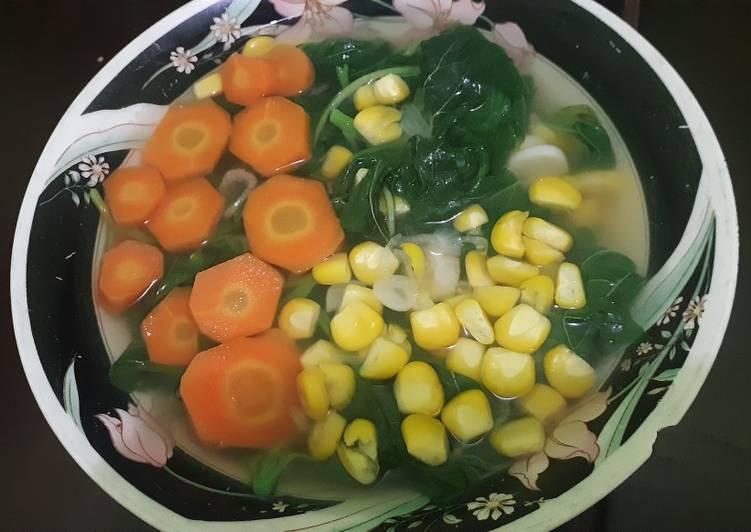Sayur Bayam: (86, 29, 696, 497)
